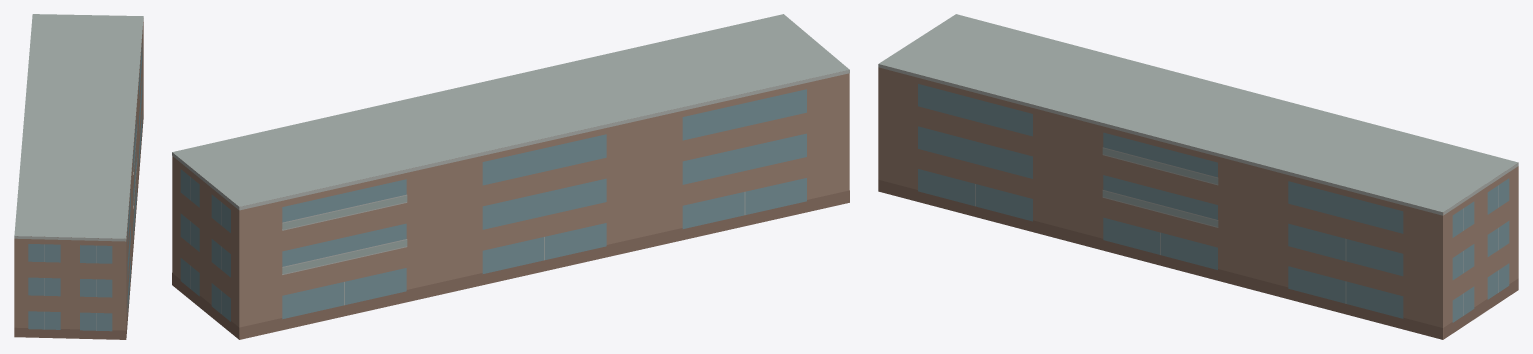
File: survey-upis-32720038.glb
3 renders of one model, left to right at view 1: azimuth 30°, elevation 25°; view 2: azimuth 150°, elevation 25°; view 3: azimuth 270°, elevation 25°, orthographic. The views are drawn at different scales.
Parts seen in each view (by area): view 1: survey-upis-32720038.tmp; view 2: survey-upis-32720038.tmp; view 3: survey-upis-32720038.tmp.
Boxes of the visible parts, box(x1,y1,x2,y2) form: survey-upis-32720038.tmp: box(14, 14, 143, 339); survey-upis-32720038.tmp: box(172, 14, 849, 339); survey-upis-32720038.tmp: box(878, 14, 1518, 339).
Bounding box in the file's own units: 30.52 × 9.15 × 41.63.
